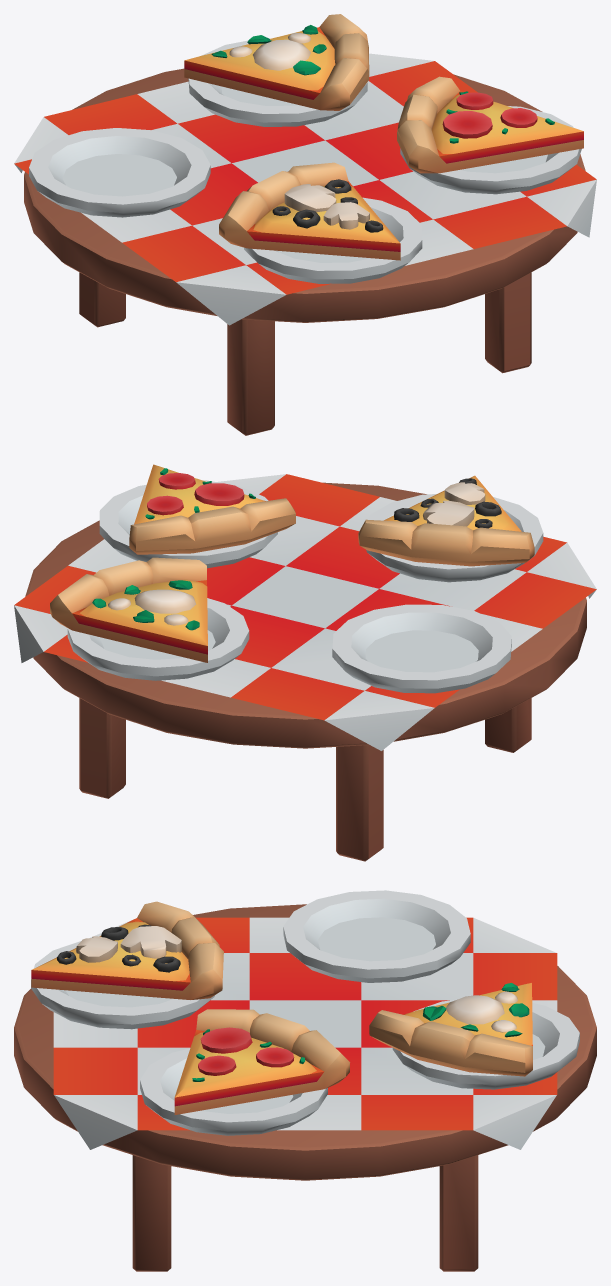
Rendered from table_round_B_tablecloth_red_decorated.obj.
3 views of the same model, one above another, from view 1: azimuth 30°, elevation 25°; view 2: azimuth 150°, elevation 25°; view 3: azimuth 270°, elevation 25° (orthographic). The views are drawn at different scales.
Parts seen in each view (by area): view 1: table_round_B_tablecloth_red_decorated_Cylinder.410; view 2: table_round_B_tablecloth_red_decorated_Cylinder.410; view 3: table_round_B_tablecloth_red_decorated_Cylinder.410.
Boxes of the visible parts, bbox=[...] form: table_round_B_tablecloth_red_decorated_Cylinder.410: bbox=[14, 14, 596, 435]; table_round_B_tablecloth_red_decorated_Cylinder.410: bbox=[14, 464, 596, 861]; table_round_B_tablecloth_red_decorated_Cylinder.410: bbox=[14, 890, 596, 1271].
Bounding box in the file's own units: 3 × 1.3 × 3.
1 material, 1 textured.
